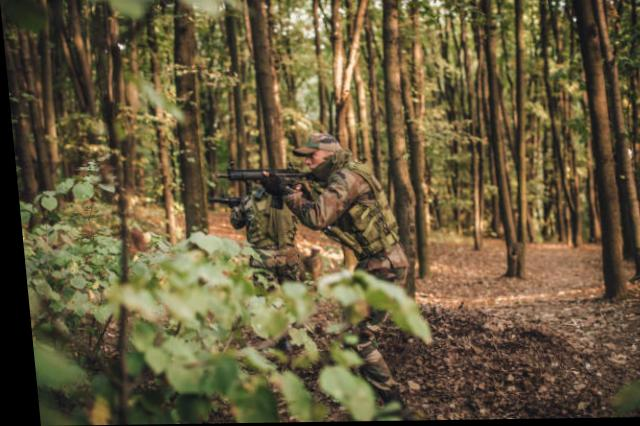other: (280, 142, 407, 281)
